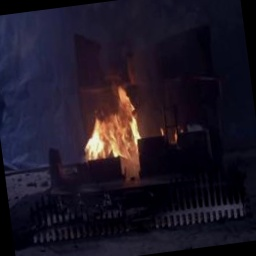fire: (68, 70, 159, 173)
